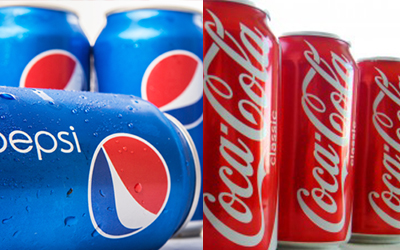coke: (205, 2, 279, 249), (280, 31, 356, 246), (358, 56, 400, 239)
